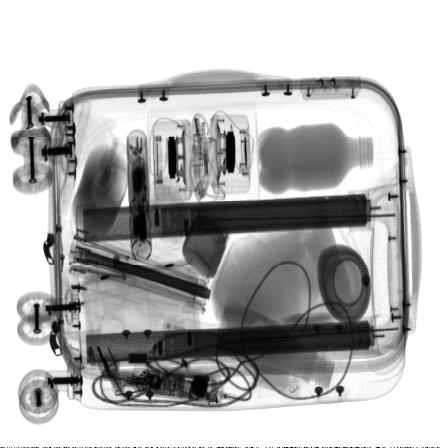Baton: (126, 128, 152, 265)
